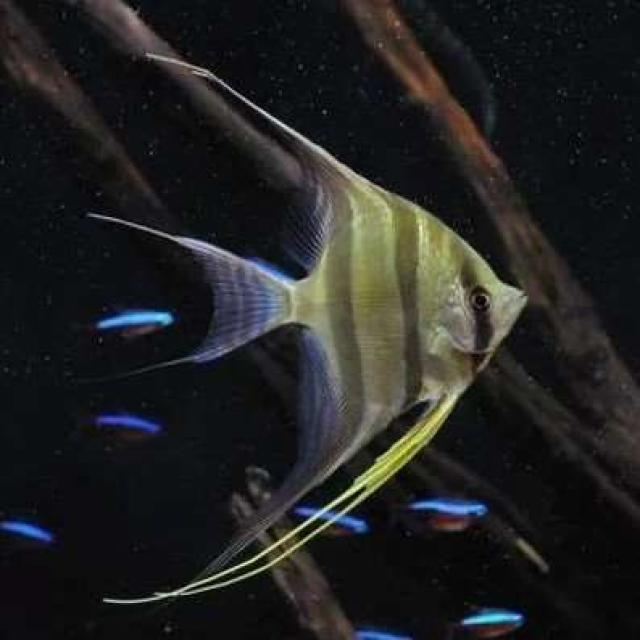AngelFish: (100, 44, 536, 604)
